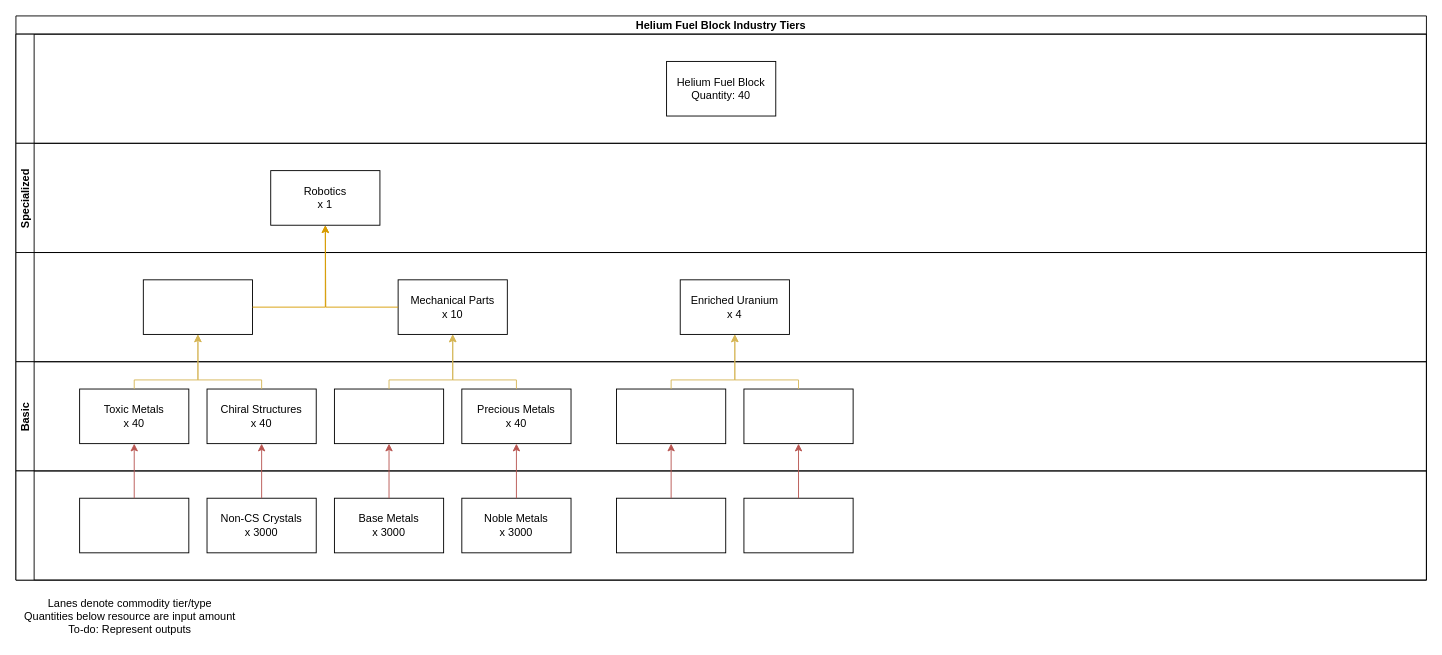
This 1442x655 diagram has some shape labels left out. Each missing label, with the box of its shape:
Consumer Electronics x 10: (142, 279, 253, 334)
Heavy Metals x 3000: (79, 497, 189, 553)
Output: (15, 33, 1426, 143)
Raw: (15, 470, 1426, 580)
Reactive Metals x 40: (334, 388, 444, 444)
Refined: (15, 252, 1426, 362)
